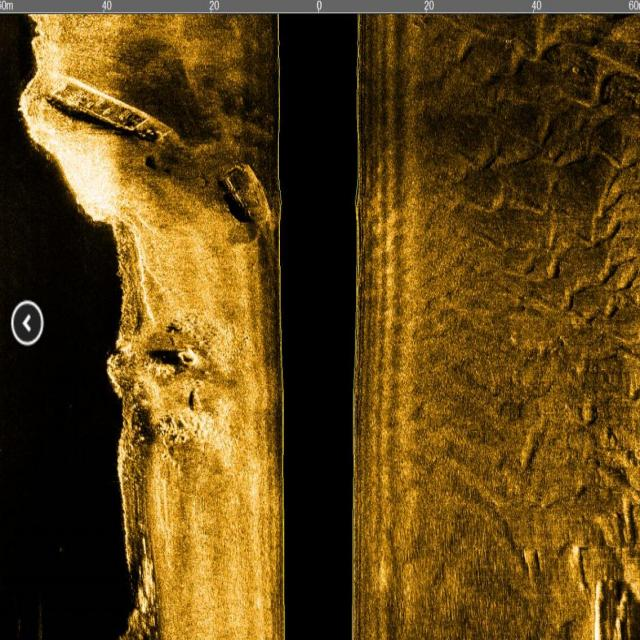ship: (38, 72, 277, 234)
